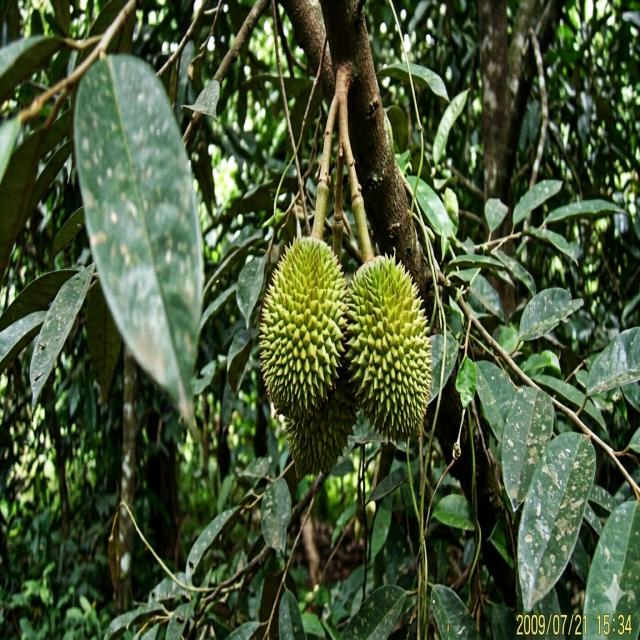immature: (259, 232, 354, 466), (342, 249, 433, 444)
